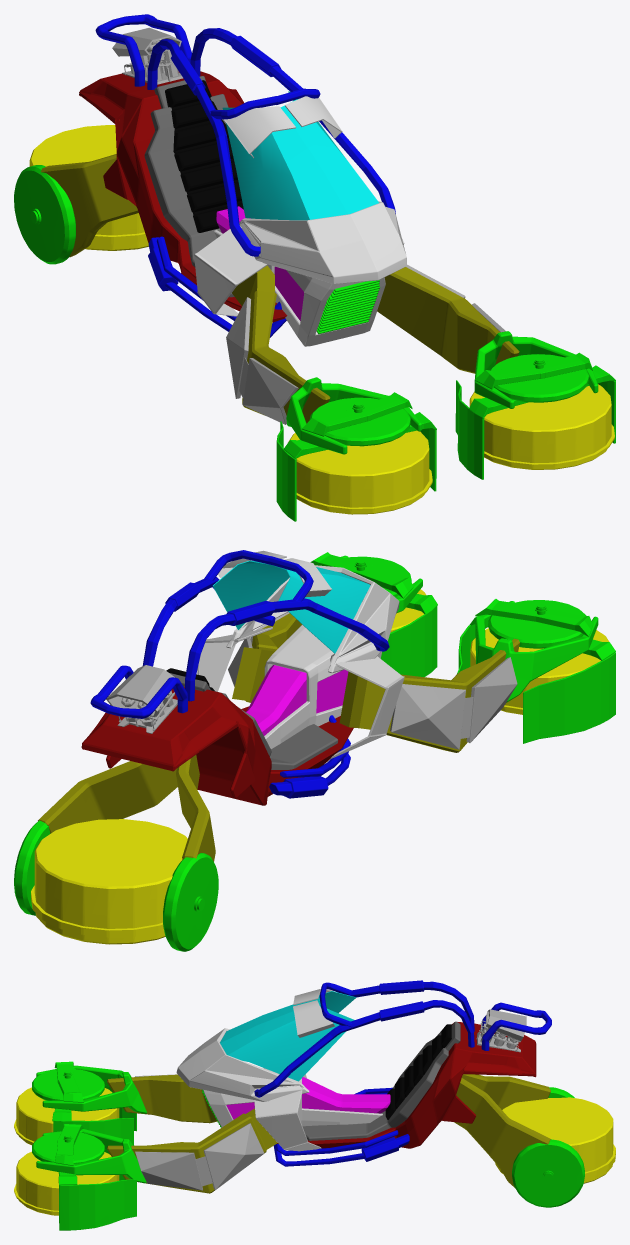
Rendered from hover_conbine_body.fbx.
The picture shows the model from 3 angles, top to bottom: view 1: azimuth 30°, elevation 25°; view 2: azimuth 150°, elevation 25°; view 3: azimuth 270°, elevation 25°; orthographic projection. The views are drawn at different scales.
Visible parts, largest first — view 1: pCube163, pCylinder96_3, pCube186, pCube165; view 2: pCube163, pCube165, pCylinder96_3, pCube186, pCylinder97_4, pCube167; view 3: pCube163, pCylinder97_4, pCube183, pCube167.
Part boxes in pixels (x1,y1,x2,y2): pCube163: (29, 14, 615, 514); pCylinder96_3: (14, 165, 75, 264); pCube186: (455, 380, 484, 479); pCube165: (276, 421, 296, 521); pCube163: (31, 550, 615, 944); pCube165: (523, 652, 615, 743); pCylinder96_3: (163, 853, 218, 951); pCube186: (380, 606, 437, 677); pCylinder97_4: (14, 820, 50, 915); pCube167: (457, 624, 475, 673); pCube163: (14, 980, 615, 1215); pCylinder97_4: (512, 1139, 584, 1207); pCube183: (59, 1179, 136, 1230); pCube167: (53, 1118, 133, 1145).
Size of the model in its own units: 1.7 by 1.33 by 3.82.
